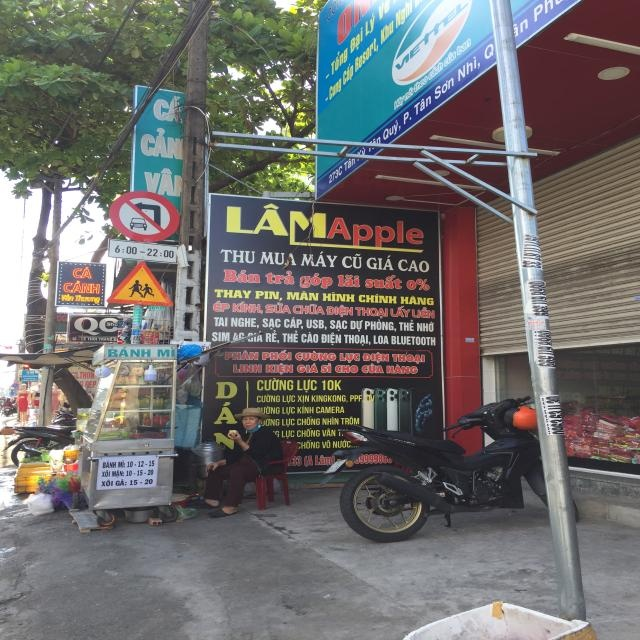bien_nguy_hiem: (108, 192, 178, 242), (106, 261, 174, 304)
